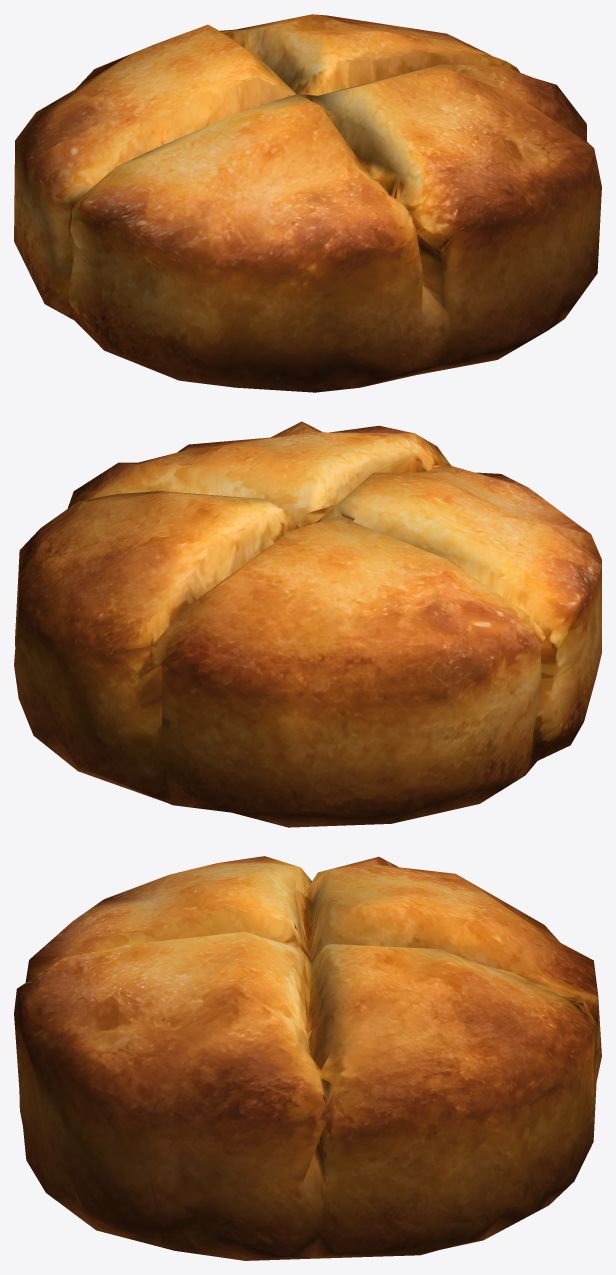
File: meal_heartyBiscuit-v1.glb
3 renders of one model, top to bottom at view 1: azimuth 30°, elevation 25°; view 2: azimuth 150°, elevation 25°; view 3: azimuth 270°, elevation 25°, orthographic. The views are drawn at different scales.
Visible parts, largest first — view 1: tripo_node_fd536291-161b-41f9-8173-eb45895e3581; view 2: tripo_node_fd536291-161b-41f9-8173-eb45895e3581; view 3: tripo_node_fd536291-161b-41f9-8173-eb45895e3581.
Boxes of the visible parts, x1,y1,x2,y2 form: tripo_node_fd536291-161b-41f9-8173-eb45895e3581: (14, 14, 601, 392); tripo_node_fd536291-161b-41f9-8173-eb45895e3581: (14, 421, 601, 827); tripo_node_fd536291-161b-41f9-8173-eb45895e3581: (14, 856, 601, 1260).
Size of the model in its own units: 0.9785 by 0.4275 by 0.9663.
1 material, 1 textured.
